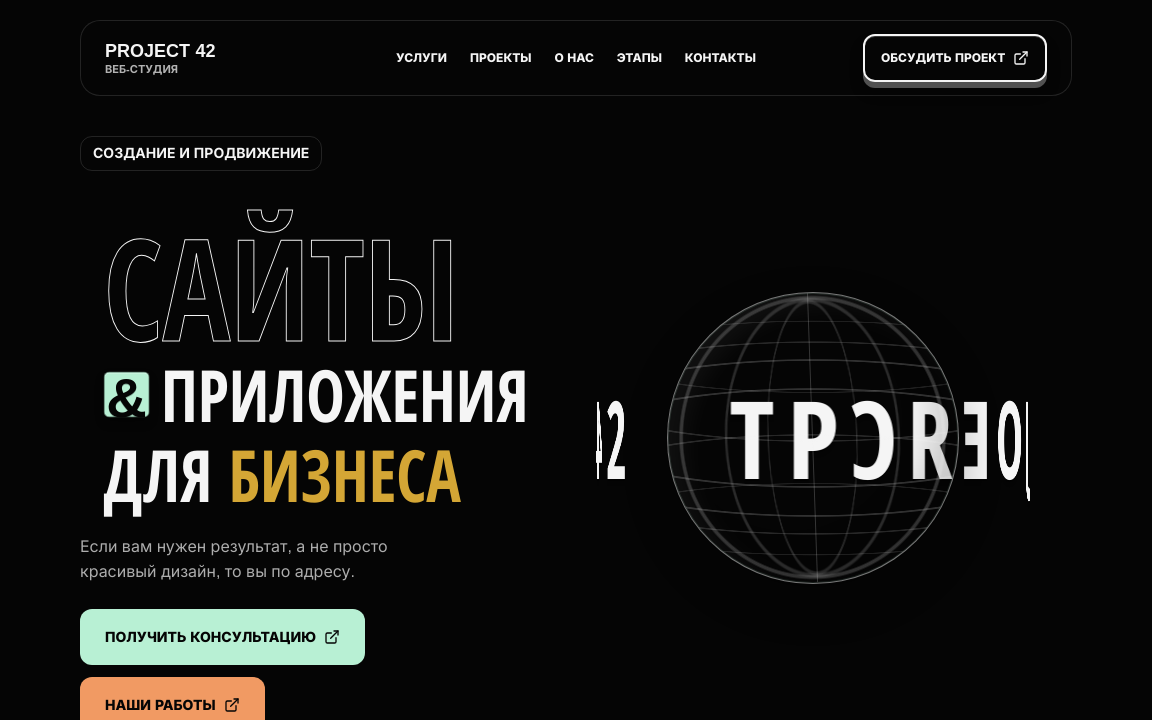
Test: RazrabotkaPage › opens the consultation quiz from CTA links
Click the link "Получить консультацию" at (223, 637), box [80, 609, 365, 665]
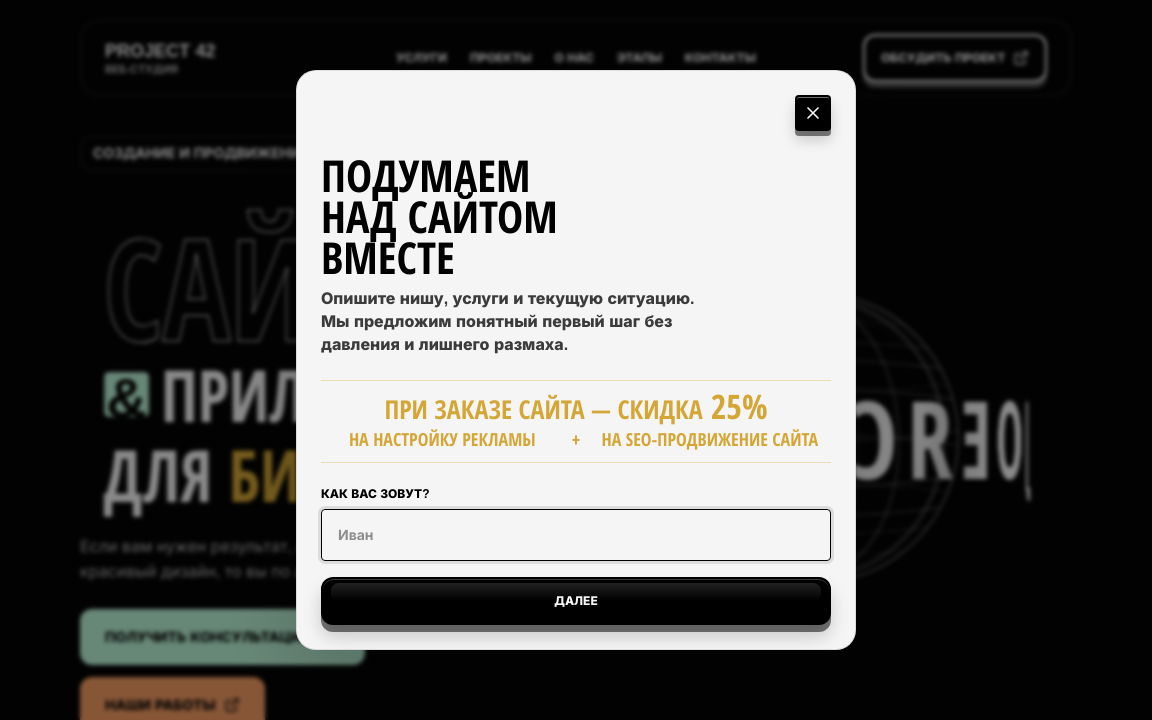
Check: the field labelled "Как вас зовут?" is shown, box [321, 509, 831, 561]
